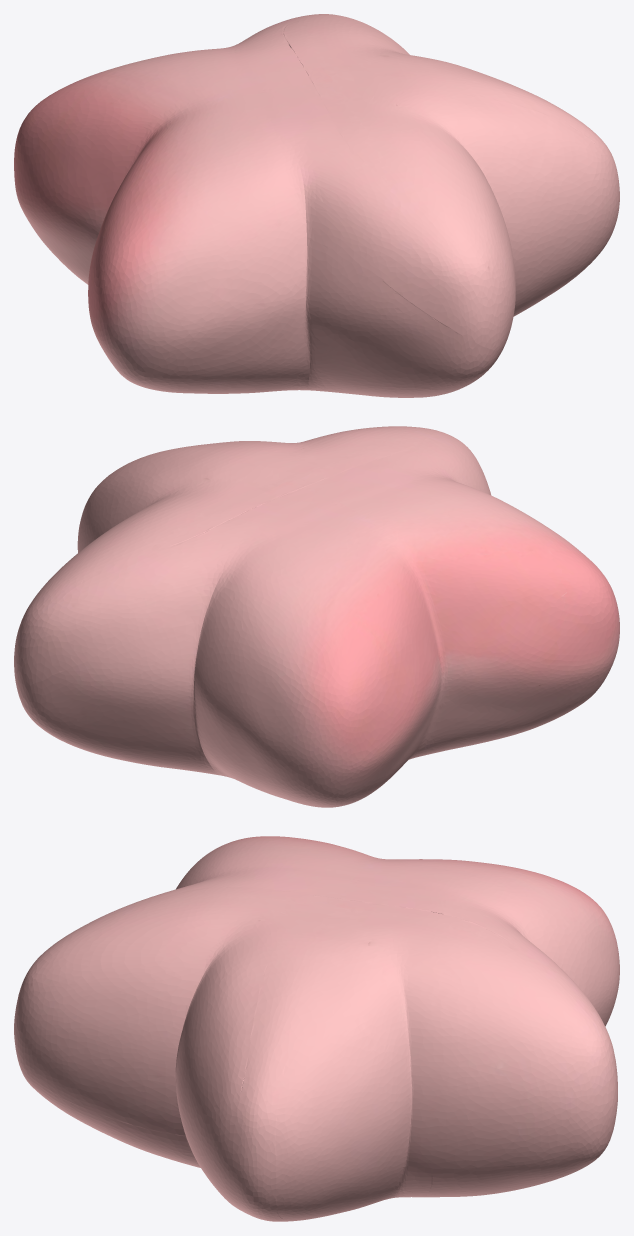
The model's file is star_3.glb.
3 renders of one model, top to bottom at view 1: azimuth 30°, elevation 25°; view 2: azimuth 150°, elevation 25°; view 3: azimuth 270°, elevation 25°, orthographic. The views are drawn at different scales.
Visible parts, largest first — view 1: tripo_node_ef302a7e-3738-478b-be57-1a5de48192db; view 2: tripo_node_ef302a7e-3738-478b-be57-1a5de48192db; view 3: tripo_node_ef302a7e-3738-478b-be57-1a5de48192db.
Part boxes in pixels (x1,y1,x2,y2): tripo_node_ef302a7e-3738-478b-be57-1a5de48192db: [14, 14, 619, 397]; tripo_node_ef302a7e-3738-478b-be57-1a5de48192db: [14, 426, 619, 807]; tripo_node_ef302a7e-3738-478b-be57-1a5de48192db: [14, 836, 619, 1221].
Bounding box in the file's own units: 0.9567 × 0.449 × 0.9487.
Materials: 1 (1 with a texture image).
